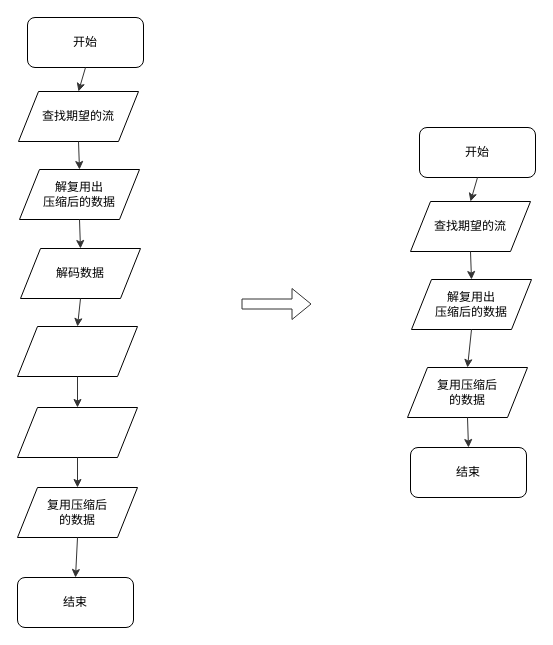
Some shapes in this 553 by 645 pixel diagram are drawn without their labels. Here are the shapes that lost their labels. From the top down, the centre of each, then its label:
At pixel 77 351: "格式转换为 编码器使用 的格式".
At pixel 77 432: "编码数据".
